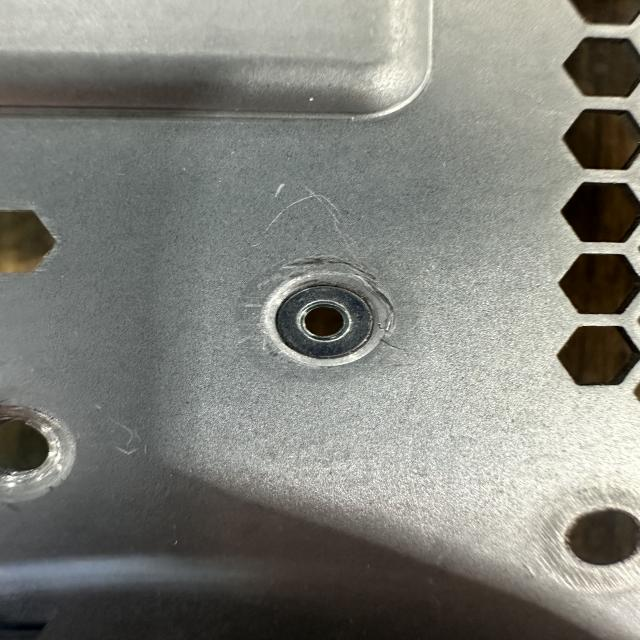Missing screw: (245, 258, 411, 384)
